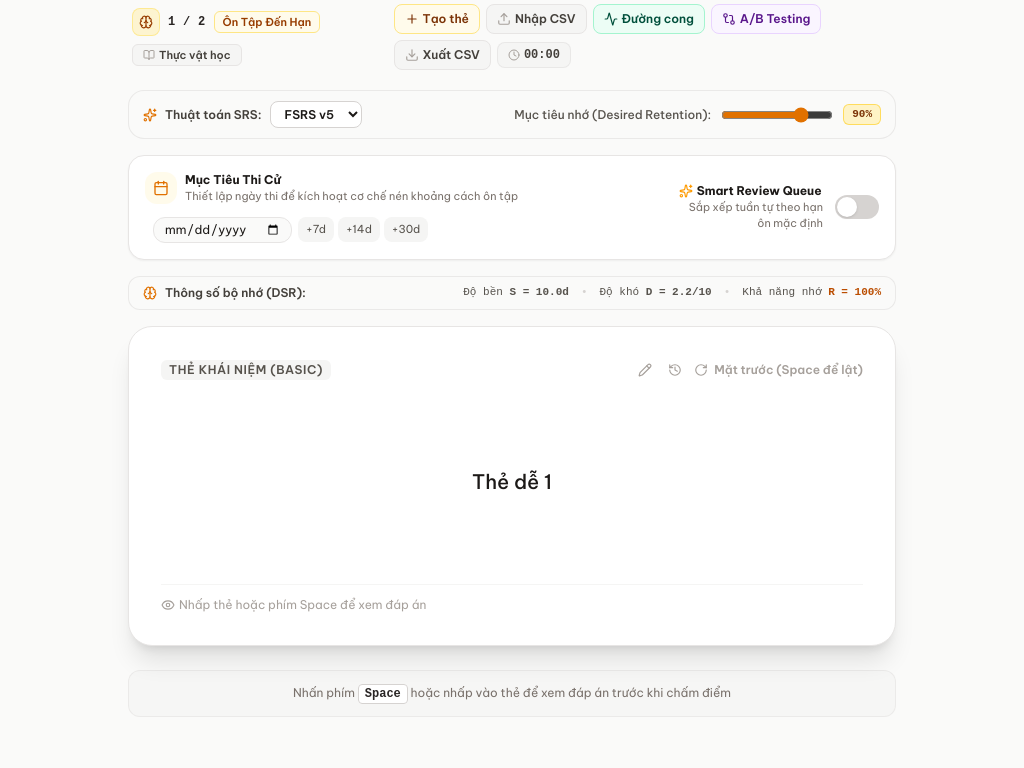
Scenario: Phase F6.12: SRS Algorithm Tuning Integration › opens and closes the A/B Testing modal
The width and height of the screenshot is (1024, 768).
Click the button with test id "btn-open-ab-testing": (766,19) [711,4,821,34]
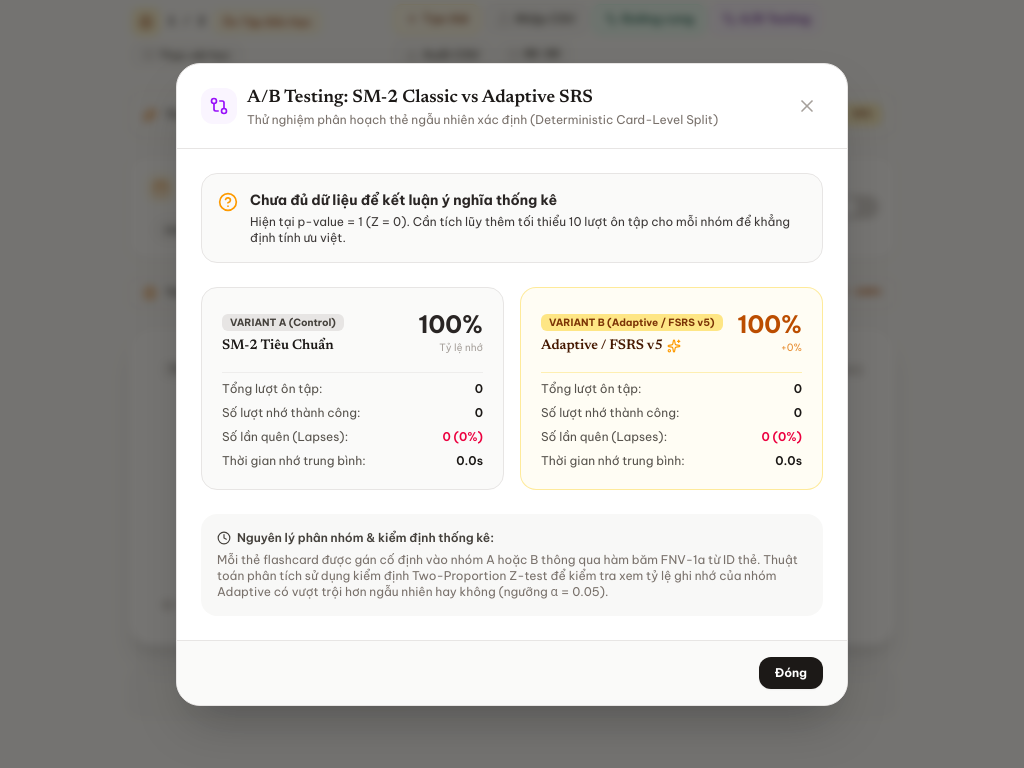
expect the dialog with test id "srs-variant-comparison-modal" is shown: met
expect the text with test id "metric-variant-a-retention" is shown: met, box [418,308,483,340]
expect the text with test id "metric-variant-b-retention" is shown: met, box [737,308,802,340]
// Close modal
Click the button with test id "btn-close-modal": (807,106) [791,90,823,122]
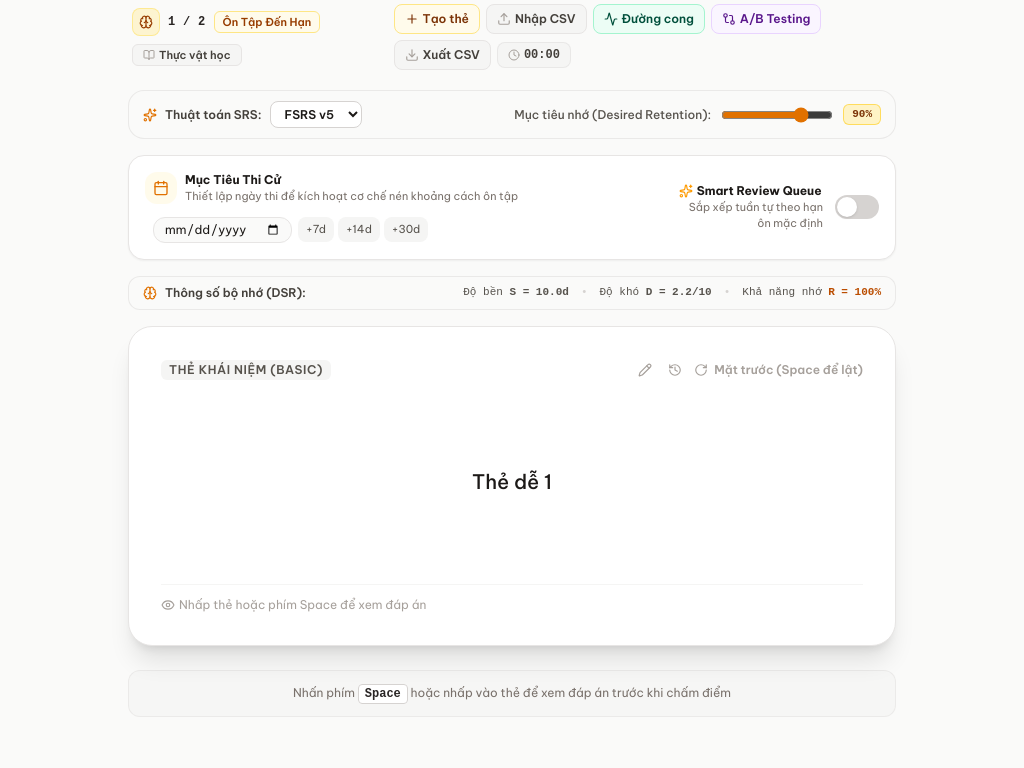
expect the dialog with test id "srs-variant-comparison-modal" is gone: met
